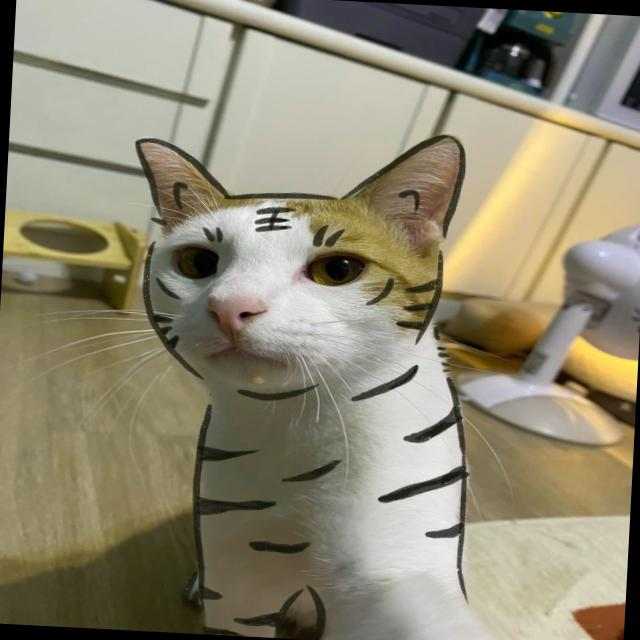cat1: (109, 108, 511, 640)
